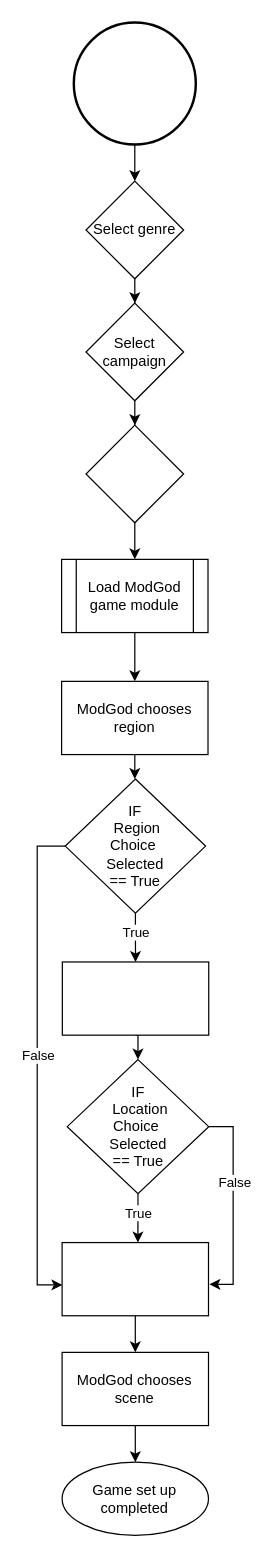
The diagram is 272 pixels wide and 1557 high, and some of its shapes have lost their labels. The centre of each missing label's shape, as x and y in pixels:
"ModGod chooses location" belongs at pixel 135 998.
"ModGod chooses space" belongs at pixel 134 1278.
"Select Game settings" belongs at pixel 134 473.
"Start game" belongs at pixel 134 83.
